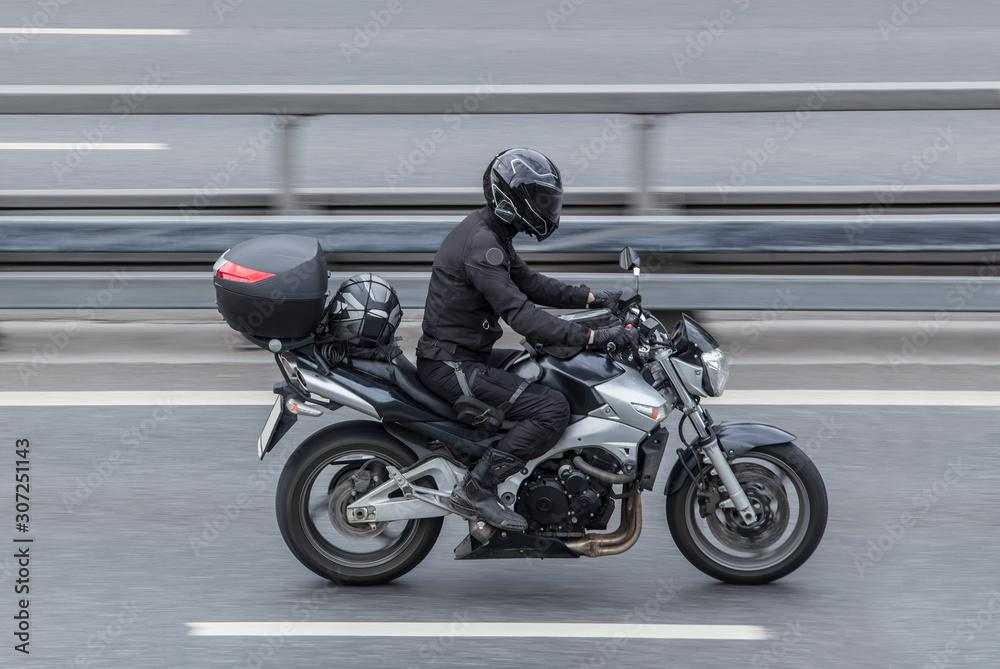helmet: (483, 146, 564, 243)
